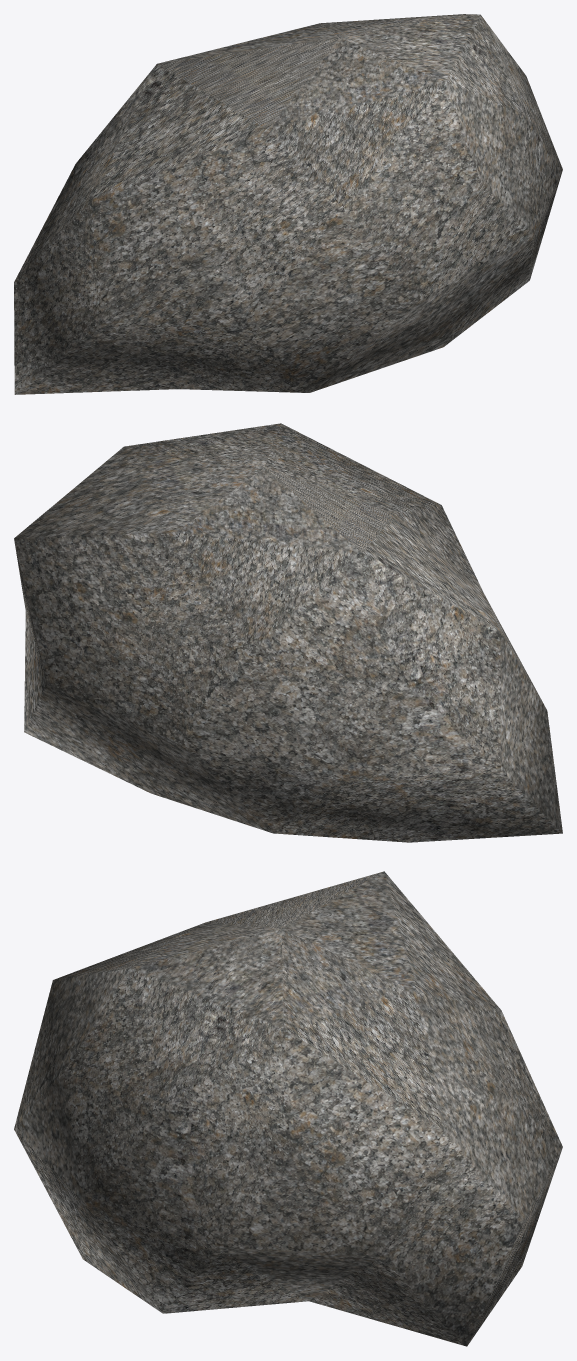
File: granite-cobble.glb
3 views of the same model, one above another, from view 1: azimuth 30°, elevation 25°; view 2: azimuth 150°, elevation 25°; view 3: azimuth 270°, elevation 25° (orthographic). The views are drawn at different scales.
Parts seen in each view (by area): view 1: granite-cobble; view 2: granite-cobble; view 3: granite-cobble.
Part boxes in pixels (x1,y1,x2,y2): granite-cobble: [14, 14, 562, 394]; granite-cobble: [14, 423, 562, 842]; granite-cobble: [14, 871, 562, 1346].
Size of the model in its own units: 0.3289 by 0.1841 by 0.245.
1 material, 1 textured.
